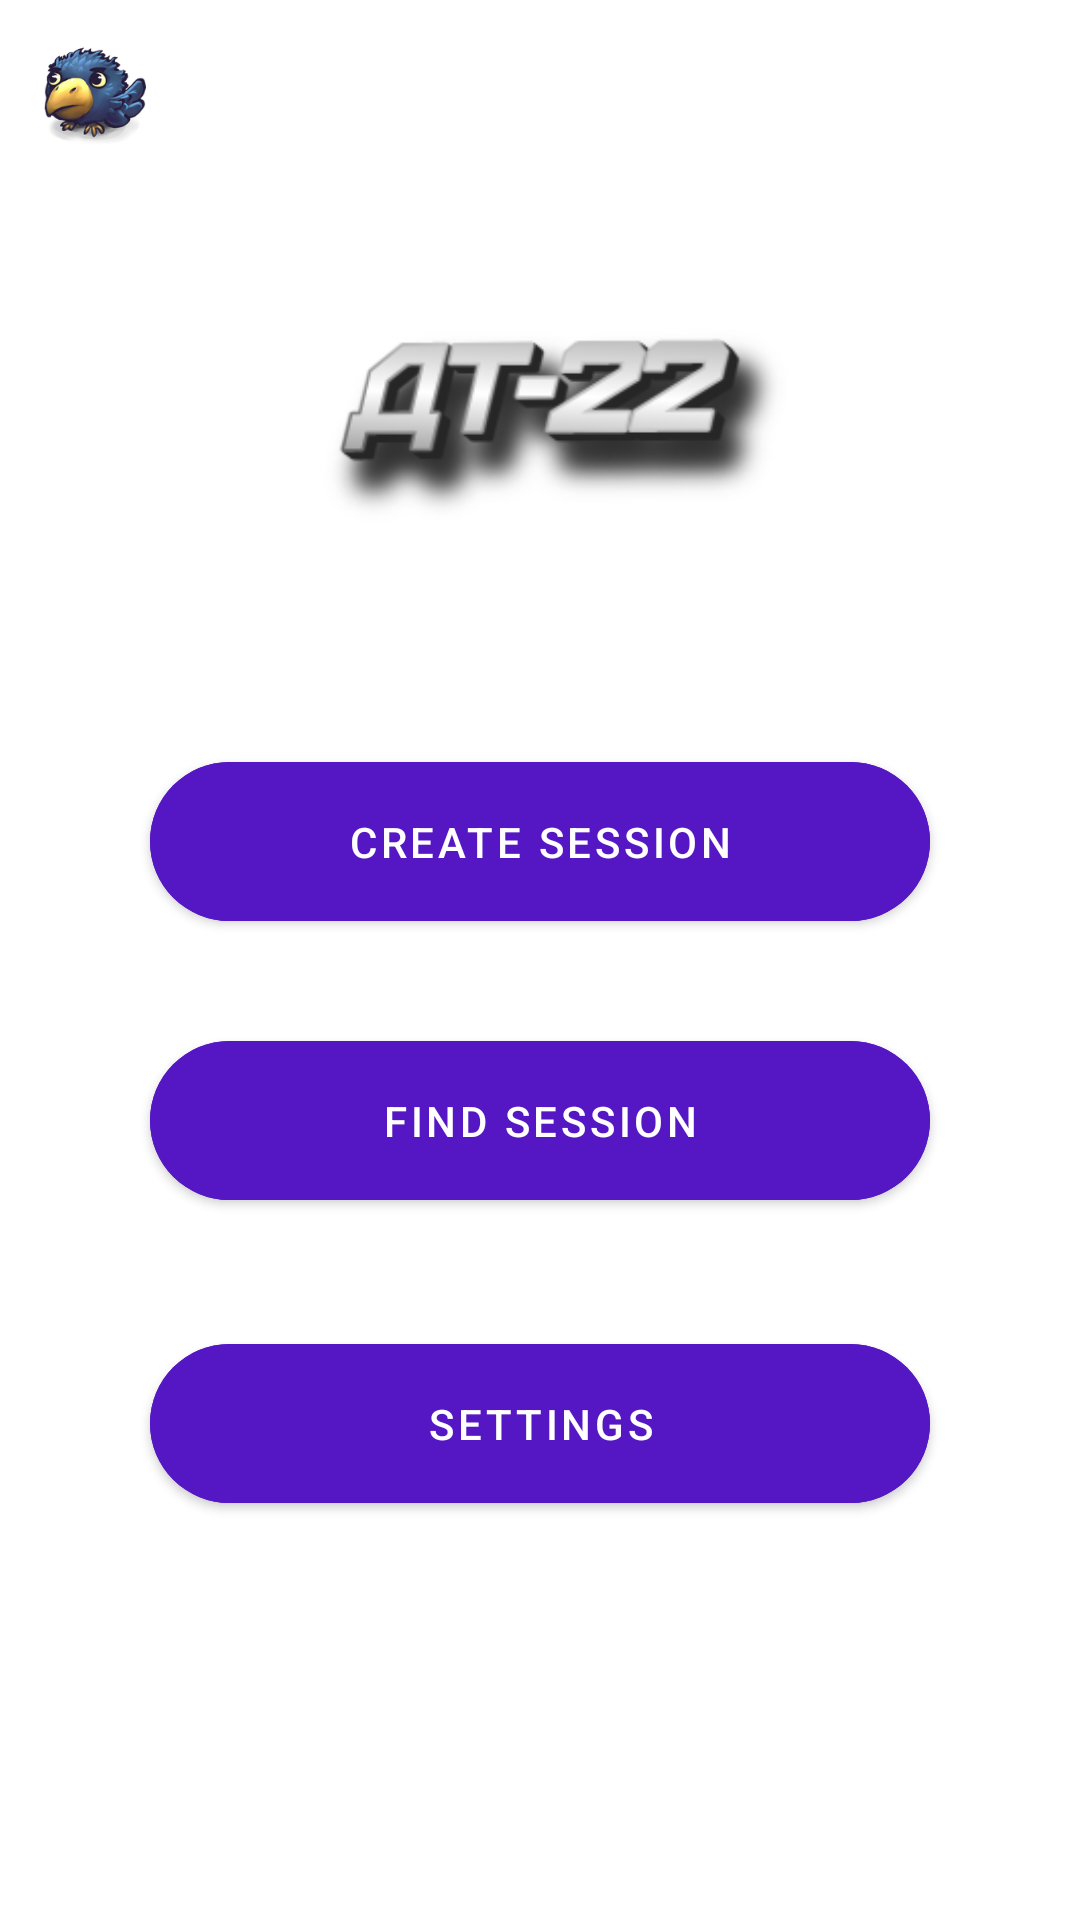

Where to tap for icons on this 1080 × 1920 app screen, as (x=x, y=y):
bird: (x=95, y=93)
